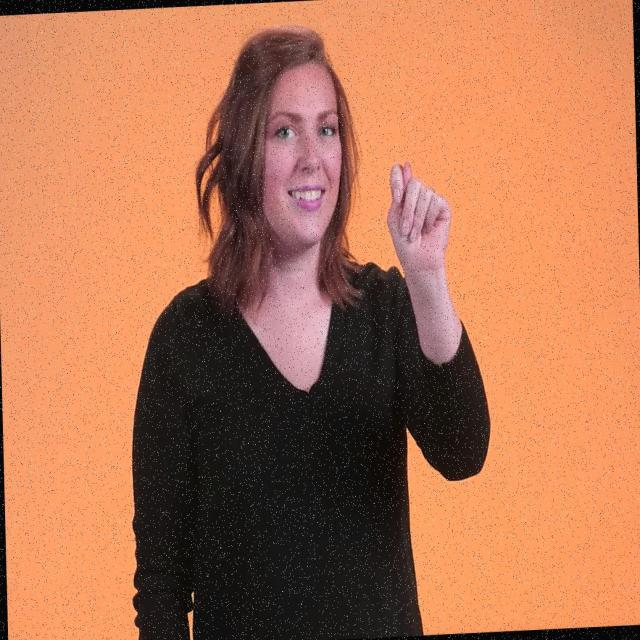T: (380, 156, 455, 278)
